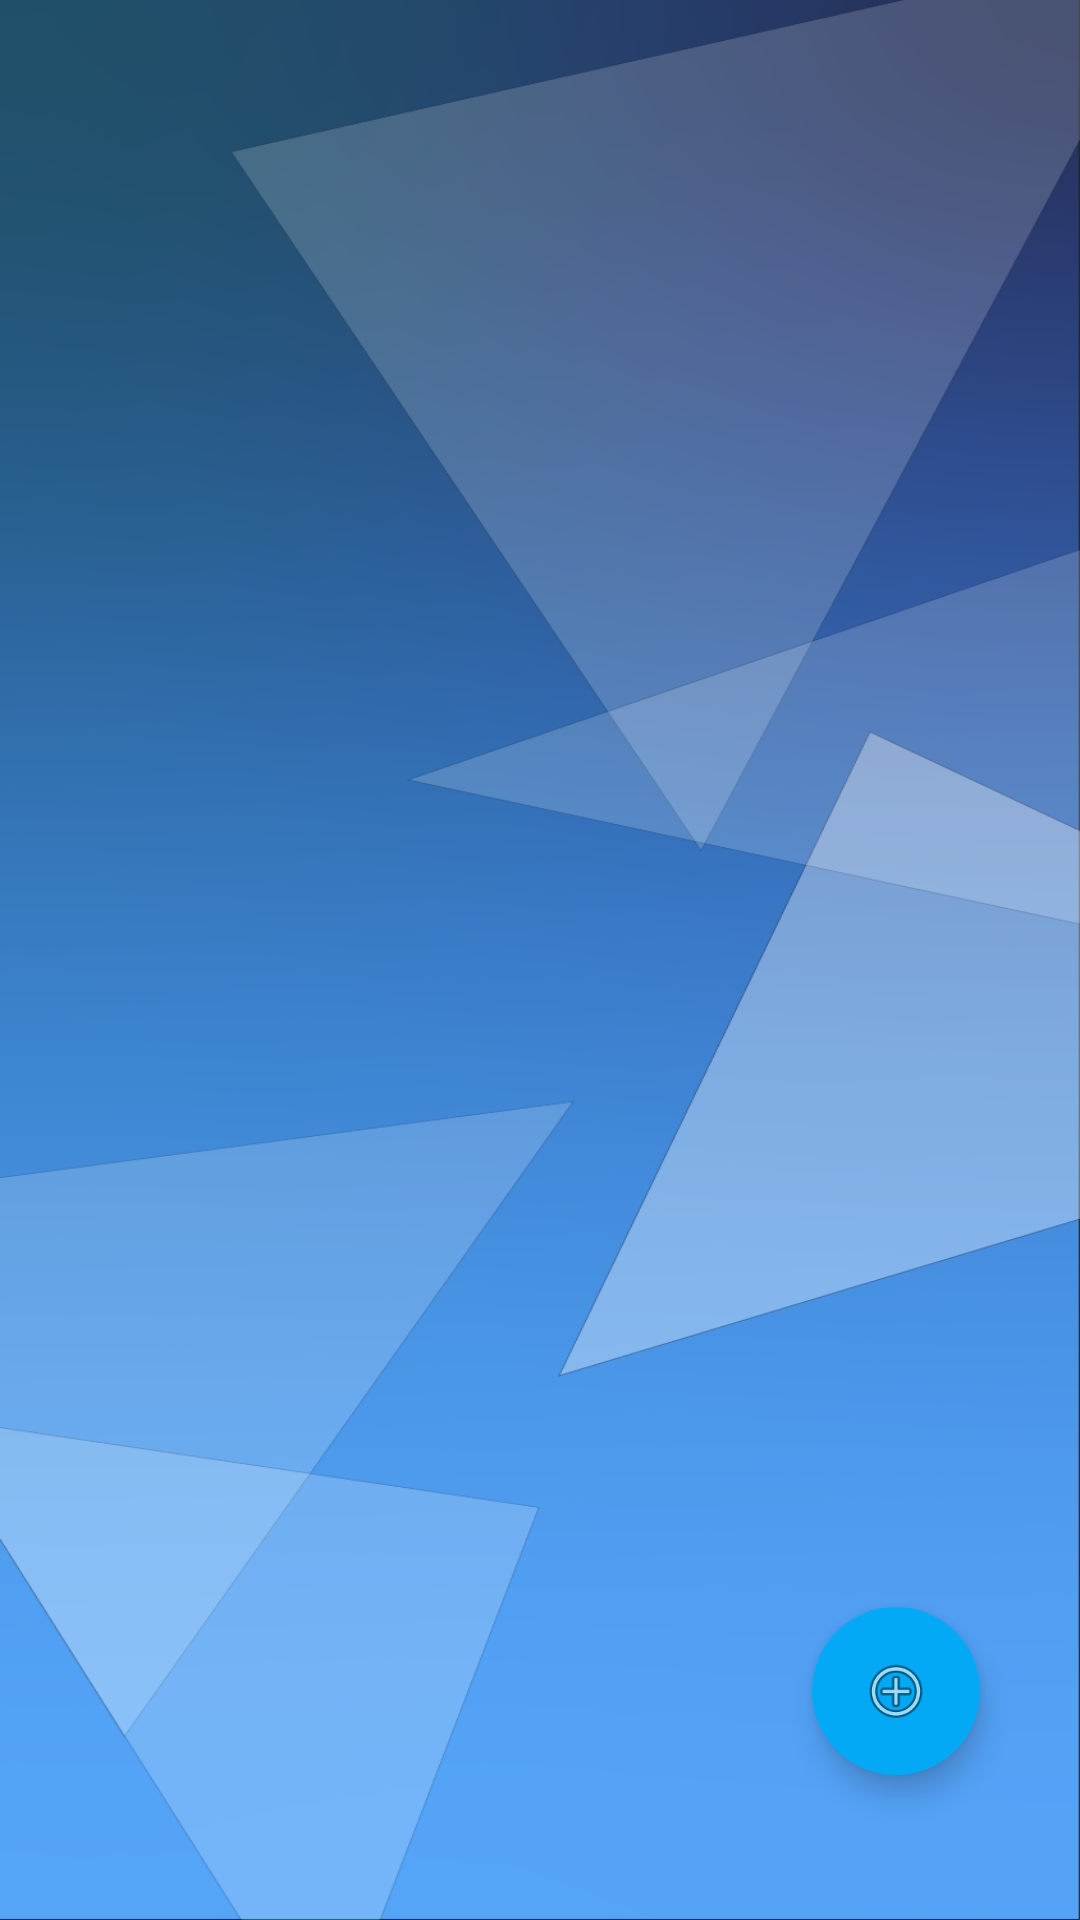

Point at icon controls on the screen. Image size 1080×1920, points as (x=x, y=y).
add: (x=896, y=1691)
